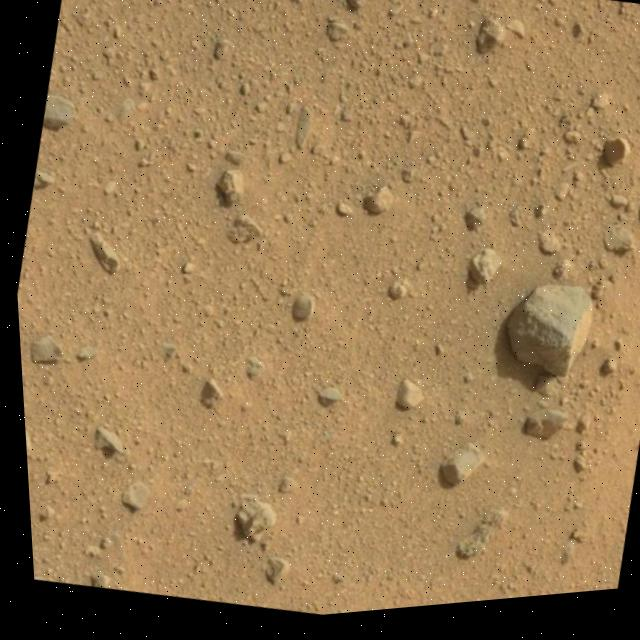mars-rocks: (502, 294, 587, 386), (434, 451, 477, 494), (227, 498, 267, 544), (518, 417, 561, 450), (464, 256, 497, 293), (40, 93, 71, 130), (599, 234, 629, 267)
